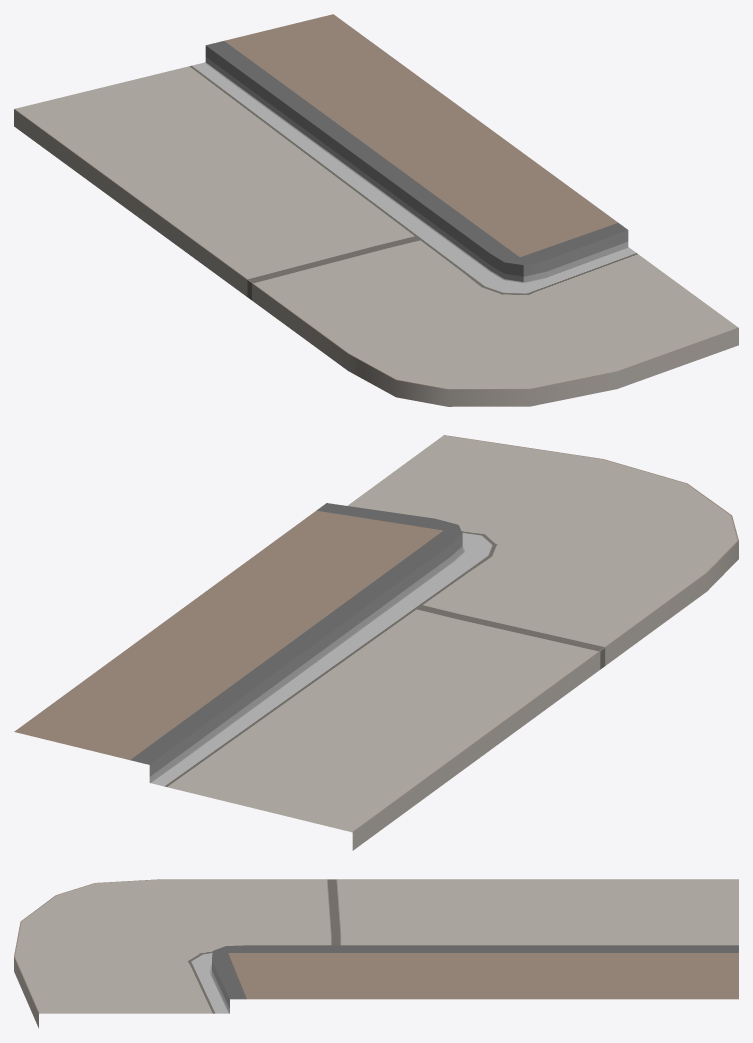
File: island_corner_2_mesh.fbx
3 renders of one model, top to bottom at view 1: azimuth 30°, elevation 25°; view 2: azimuth 150°, elevation 25°; view 3: azimuth 270°, elevation 25°, orthographic. The views are drawn at different scales.
Parts seen in each view (by area): view 1: island_corner_2_mesh; view 2: island_corner_2_mesh; view 3: island_corner_2_mesh.
Boxes of the visible parts, box(x1,y1,x2,y2) form: island_corner_2_mesh: box(14, 14, 738, 406); island_corner_2_mesh: box(14, 435, 738, 850); island_corner_2_mesh: box(14, 879, 738, 1028).
Bounding box in the file's own units: 5 × 0.5131 × 11.39.
